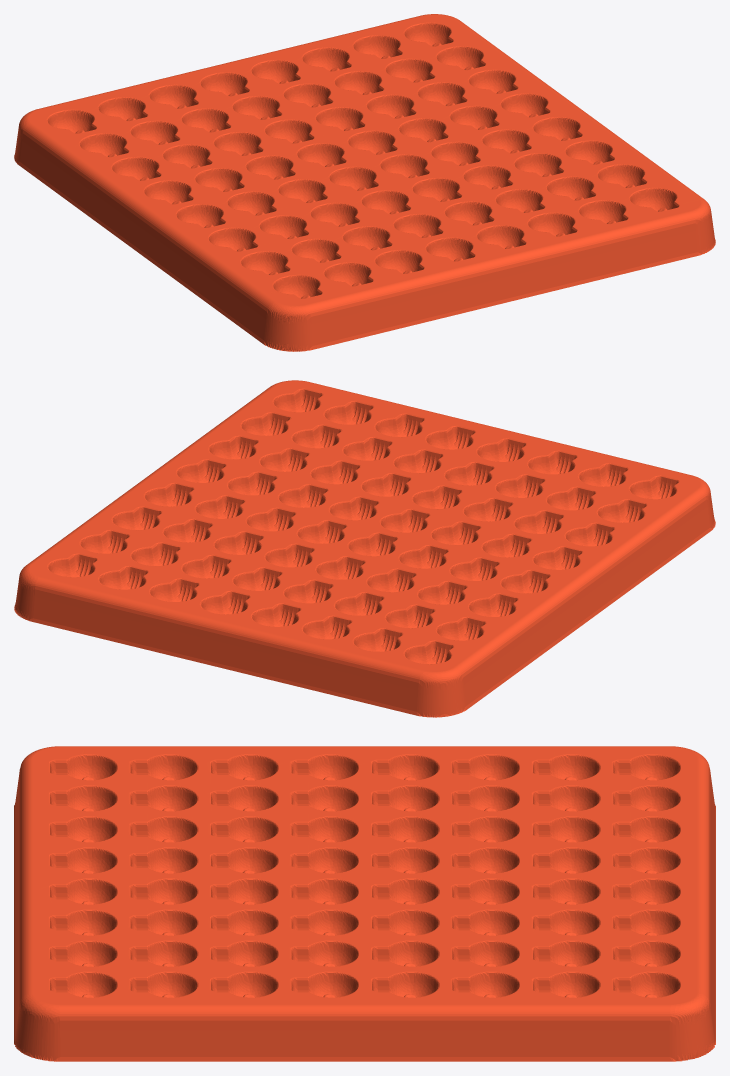
File: mold.glb
The picture shows the model from 3 angles, top to bottom: view 1: azimuth 30°, elevation 25°; view 2: azimuth 150°, elevation 25°; view 3: azimuth 270°, elevation 25°; orthographic projection. The views are drawn at different scales.
Parts seen in each view (by area): view 1: geometry_0; view 2: geometry_0; view 3: geometry_0.
Boxes of the visible parts, left/top/right/bottom form: geometry_0: left=14, top=14, right=715, bottom=351; geometry_0: left=14, top=380, right=715, bottom=717; geometry_0: left=14, top=746, right=715, bottom=1061.
Size of the model in its own units: 0.1247 by 0.0105 by 0.1355.
